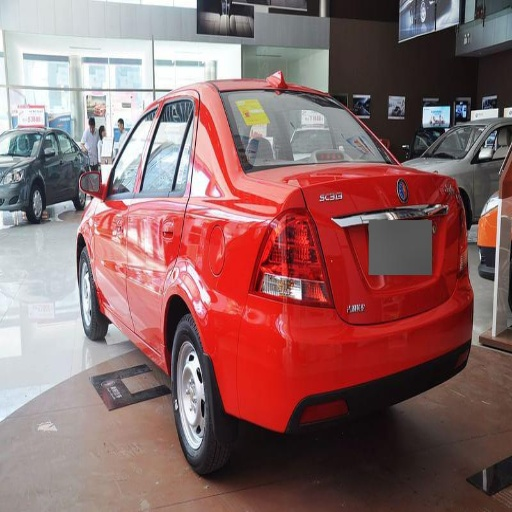back_bumper: (215, 245, 470, 438)
back_glass: (228, 91, 389, 169)
back_left_door: (128, 96, 191, 324)
tailgate: (285, 162, 452, 321)
trunk: (420, 188, 461, 311)
